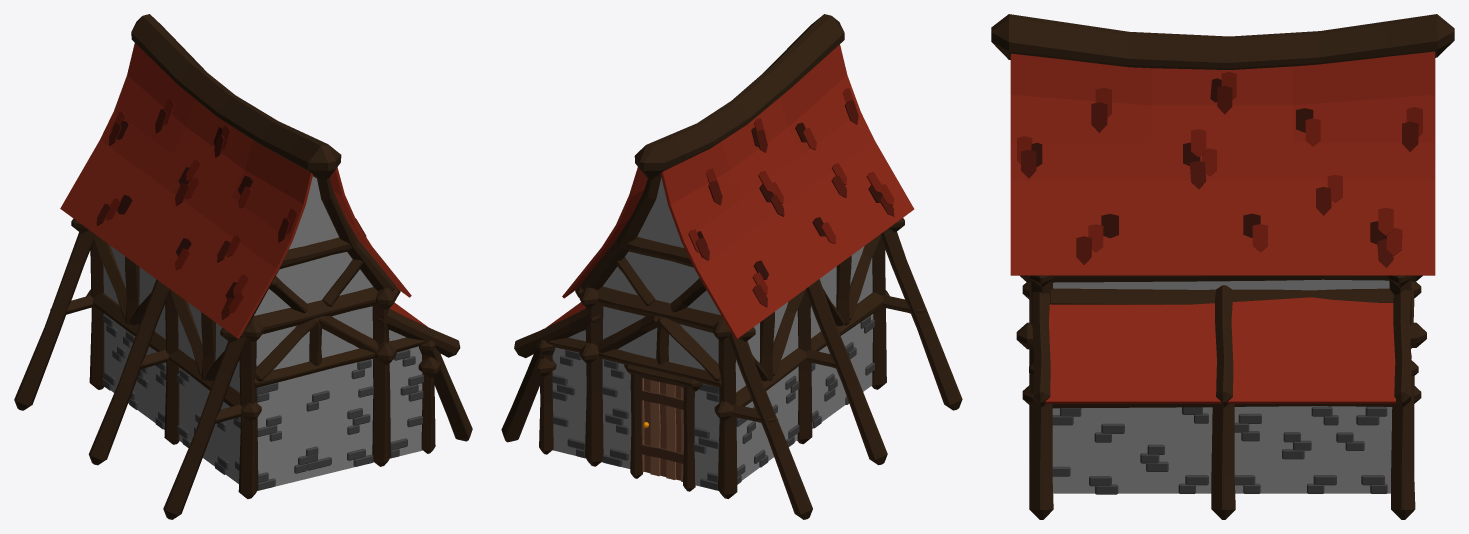
The model's file is city_house.gltf.
The picture shows the model from 3 angles, left to right: view 1: azimuth 30°, elevation 25°; view 2: azimuth 150°, elevation 25°; view 3: azimuth 270°, elevation 25°; orthographic projection. The views are drawn at different scales.
Visible parts, largest first — view 1: House.002; view 2: House.002; view 3: House.002.
Boxes of the visible parts, box(x1,y1,x2,y2) form: House.002: box(14, 14, 472, 519); House.002: box(501, 14, 962, 519); House.002: box(991, 14, 1454, 519).
Bounding box in the file's own units: 3.59 × 3.9 × 3.9.
1 material, 1 textured.
